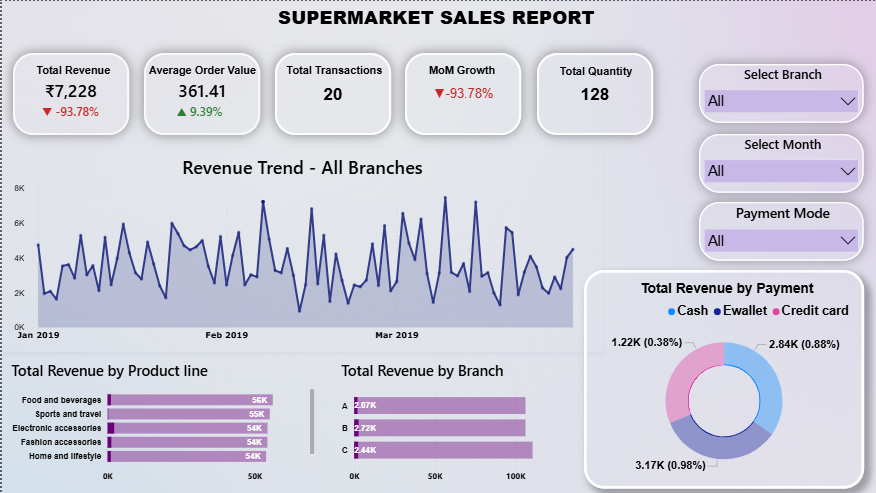

The page's visual inventory and layout, read from the dashboard file:
{"tool":"powerbi","page":{"name":"Page 1","canvas":[1280,720],"ordinal":0},"visuals":[{"type":"card","title":"Total Revenue","fields":{"Values":["1000-Supermarket-Sales1_Cleaned.Total Revenue"]},"box":[16.1,76.1,169.8,120],"z":0},{"type":"card","title":"Total Transactions","fields":{"Values":["1000-Supermarket-Sales1_Cleaned.Total Transactions"]},"box":[399.5,76.1,169.8,120],"z":1000},{"type":"card","fields":{"Values":["1000-Supermarket-Sales1_Cleaned.Total Quantity"]},"box":[782.9,76.1,169.8,120],"z":2000},{"type":"lineChart","fields":{"Y":["1000-Supermarket-Sales1_Cleaned.Total Revenue"],"Category":["CALENDAR.Date"]},"box":[0,212.2,879.5,301.5],"z":3000},{"type":"clusteredBarChart","fields":{"Y":["1000-Supermarket-Sales1_Cleaned.Total Revenue"],"Category":["1000-Supermarket-Sales1_Cleaned.Branch"]},"box":[484.4,513.7,367.3,206.3],"z":4000},{"type":"donutChart","fields":{"Category":["1000-Supermarket-Sales1_Cleaned.Payment"],"Y":["1000-Supermarket-Sales1_Cleaned.Total Revenue"]},"box":[851.7,393.7,409.8,320.5],"z":5000},{"type":"clusteredBarChart","fields":{"Category":["1000-Supermarket-Sales1_Cleaned.Product line"],"Y":["1000-Supermarket-Sales1_Cleaned.Total Revenue"]},"box":[1.5,513.7,468.3,206.3],"z":6000},{"type":"textbox","box":[0,0,1280,83.4],"z":7000},{"type":"slicer","title":"Payment Mode","fields":{"Values":["1000-Supermarket-Sales1_Cleaned.Payment"]},"box":[1020,294.1,241.5,86.3],"z":8000},{"type":"slicer","title":"Select Month","fields":{"Values":["CALENDAR.Month Year"]},"box":[1020,194.6,241.5,86.3],"z":9000},{"type":"card","title":"Average Order Value","fields":{"Values":["1000-Supermarket-Sales1_Cleaned.Average Order Value"]},"box":[207.8,76.1,169.8,120],"z":10000},{"type":"textbox","box":[45.4,87.8,351.2,82],"z":11000},{"type":"textbox","box":[117.1,87.8,352.7,76.1],"z":12000},{"type":"card","title":"Total Transactions","fields":{"Values":["1000-Supermarket-Sales1_Cleaned.MoM Display"]},"box":[589.8,76.1,169.8,120],"z":13000},{"type":"textbox","box":[499,87.8,352.7,82],"z":14000},{"type":"textbox","box":[311.7,87.8,354.1,79],"z":15000},{"type":"textbox","box":[690.7,89.3,352.7,79],"z":16000},{"type":"card","fields":{"Values":["1000-Supermarket-Sales1_Cleaned.MoM Revenue Display"]},"box":[1.5,132.2,197.6,64.4],"z":17000},{"type":"card","fields":{"Values":["1000-Supermarket-Sales1_Cleaned.MoM AOV Display"]},"box":[190.3,132.2,197.6,64.4],"z":18000},{"type":"slicer","title":"Select Branch","fields":{"Values":["1000-Supermarket-Sales1_Cleaned.Branch"]},"box":[1020,92.2,241.5,86.3],"z":19000}]}

Visuals, with their boxes in screenshot pixels (x1, y1, x2, y2), scaled from the page's 1280x720 canvas onto the 876x493 screenshot:
"Total Revenue" card: select_region(11, 52, 127, 134)
"Total Transactions" card: select_region(273, 52, 390, 134)
card - 1000-Supermarket-Sales1_Cleaned.Total Quantity: select_region(536, 52, 652, 134)
lineChart - 1000-Supermarket-Sales1_Cleaned.Total Revenue x CALENDAR.Date: select_region(0, 145, 602, 352)
clusteredBarChart - 1000-Supermarket-Sales1_Cleaned.Total Revenue x 1000-Supermarket-Sales1_Cleaned.Branch: select_region(332, 352, 583, 492)
donutChart - 1000-Supermarket-Sales1_Cleaned.Payment x 1000-Supermarket-Sales1_Cleaned.Total Revenue: select_region(583, 270, 863, 489)
clusteredBarChart - 1000-Supermarket-Sales1_Cleaned.Product line x 1000-Supermarket-Sales1_Cleaned.Total Revenue: select_region(1, 352, 322, 492)
textbox: select_region(0, 0, 875, 57)
"Payment Mode" slicer: select_region(698, 201, 863, 260)
"Select Month" slicer: select_region(698, 133, 863, 192)
"Average Order Value" card: select_region(142, 52, 258, 134)
textbox: select_region(31, 60, 271, 116)
textbox: select_region(80, 60, 322, 112)
"Total Transactions" card: select_region(404, 52, 520, 134)
textbox: select_region(342, 60, 583, 116)
textbox: select_region(213, 60, 456, 114)
textbox: select_region(473, 61, 714, 115)
card - 1000-Supermarket-Sales1_Cleaned.MoM Revenue Display: select_region(1, 91, 136, 135)
card - 1000-Supermarket-Sales1_Cleaned.MoM AOV Display: select_region(130, 91, 265, 135)
"Select Branch" slicer: select_region(698, 63, 863, 122)
